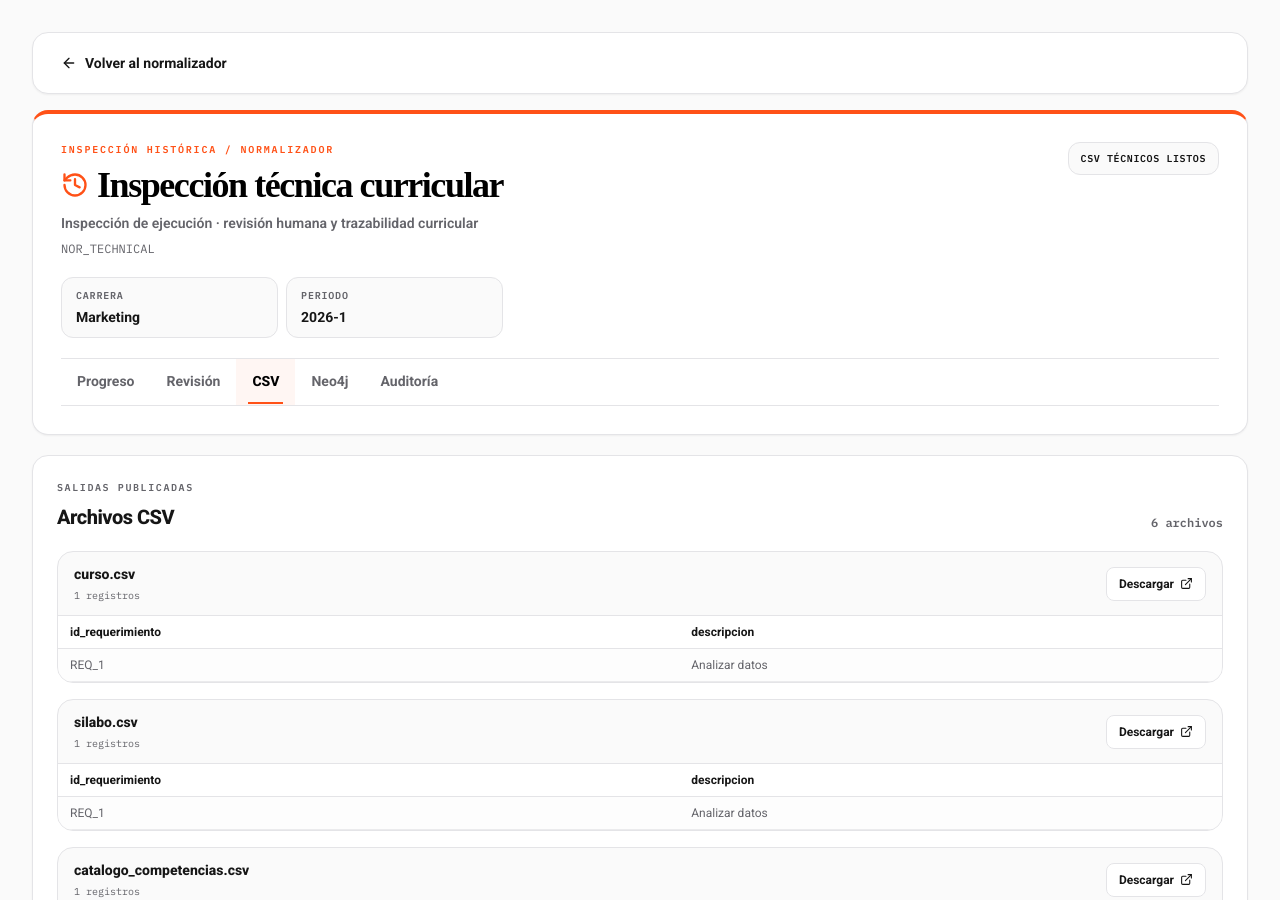
it: inspección de ejecución normalizada › reconoce el contrato técnico de seis CSV antes de habilitar Neo4j
expect the heading "Inspección técnica curricular" is shown: met, box [61,165,503,205]
expect the heading "curso.csv" is shown: met, box [74,564,140,584]
Click the tab "Progreso".
click(106, 382)  # box [61,359,150,405]
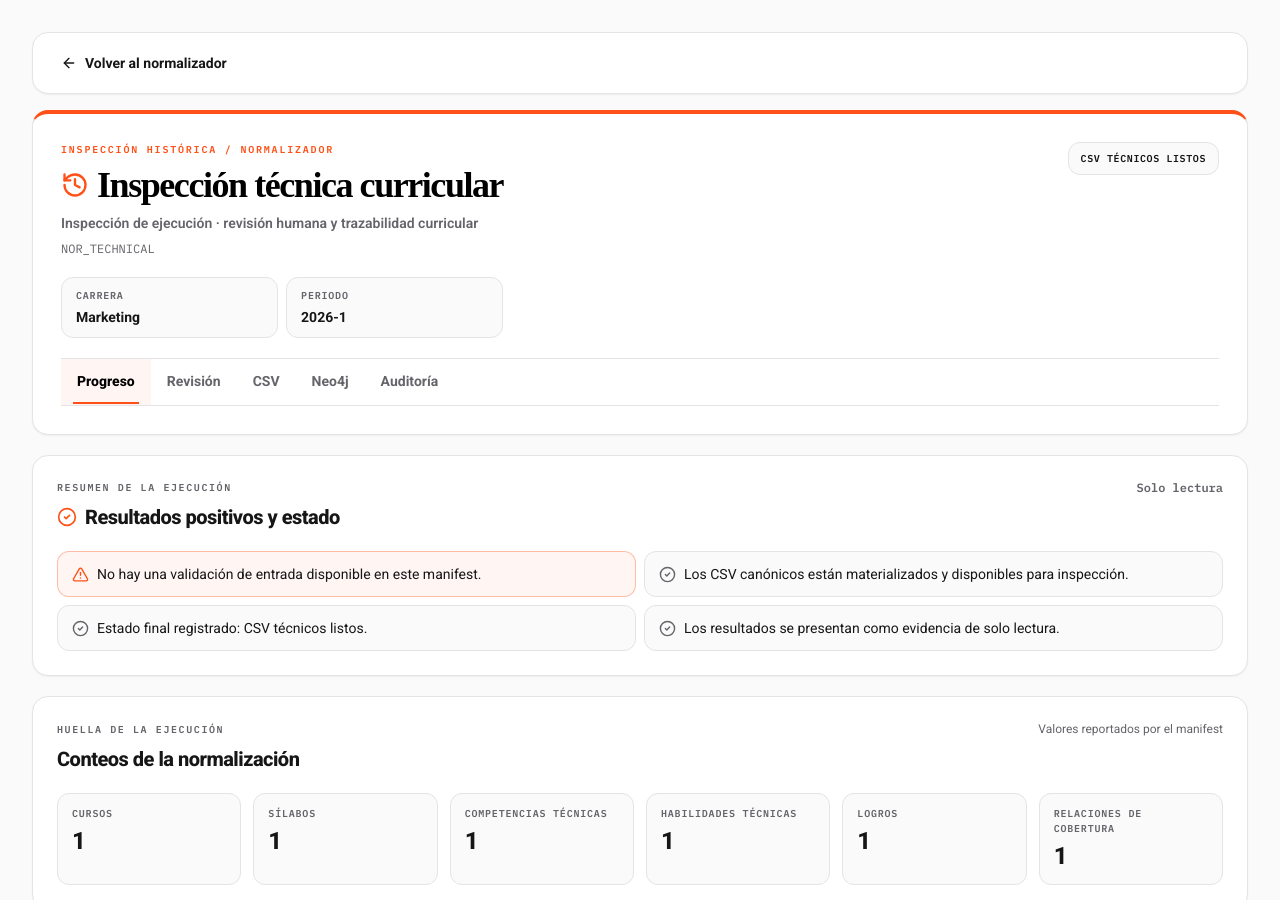
expect the text "cursos" is shown: met, box [72,807,113,820]
expect the text "competencias técnicas" is shown: met, box [465,806,619,821]
Click the tab "Neo4j".
click(330, 382)  # box [296,359,365,405]
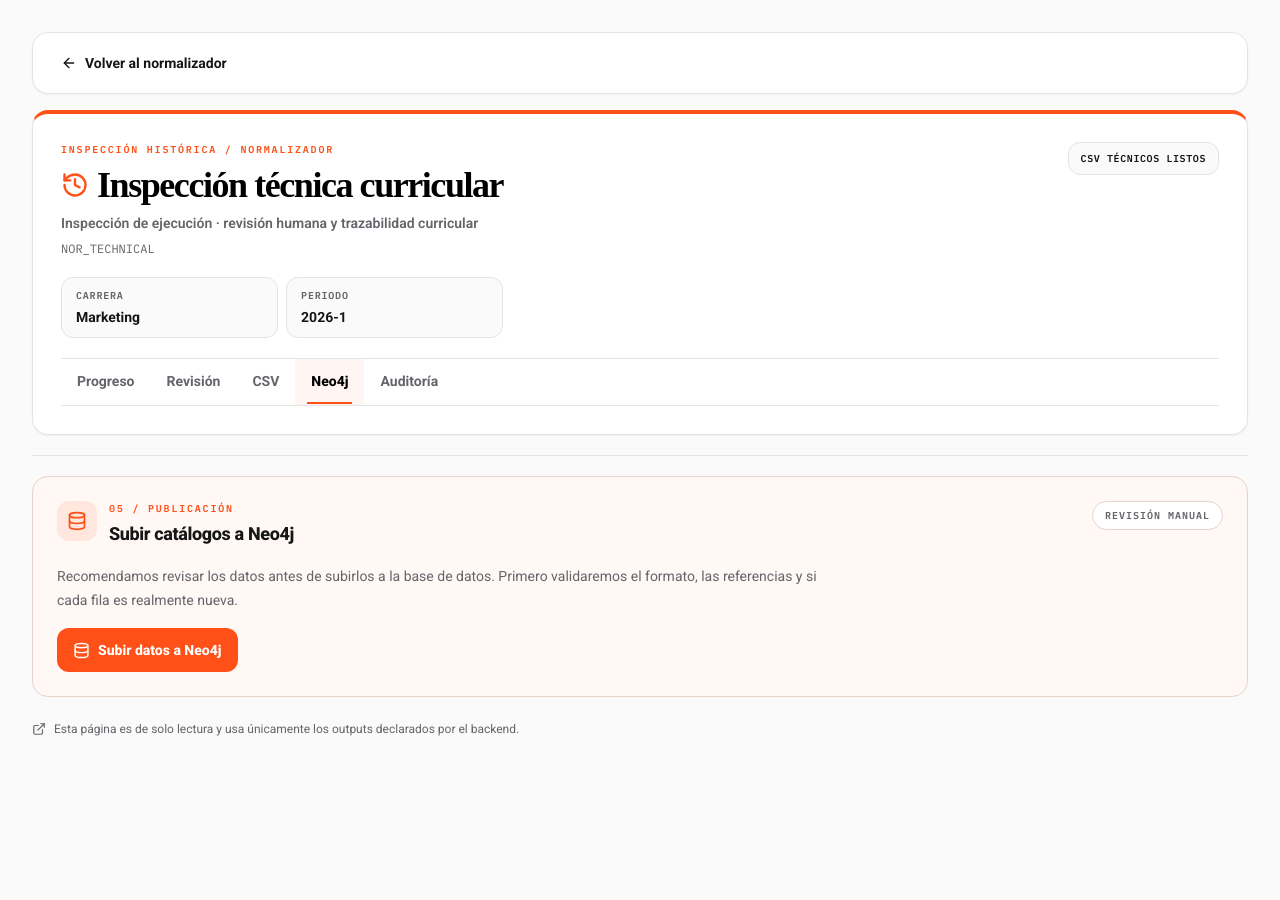
expect the button "Subir datos a Neo4j" is shown: met, box [57,628,238,672]
